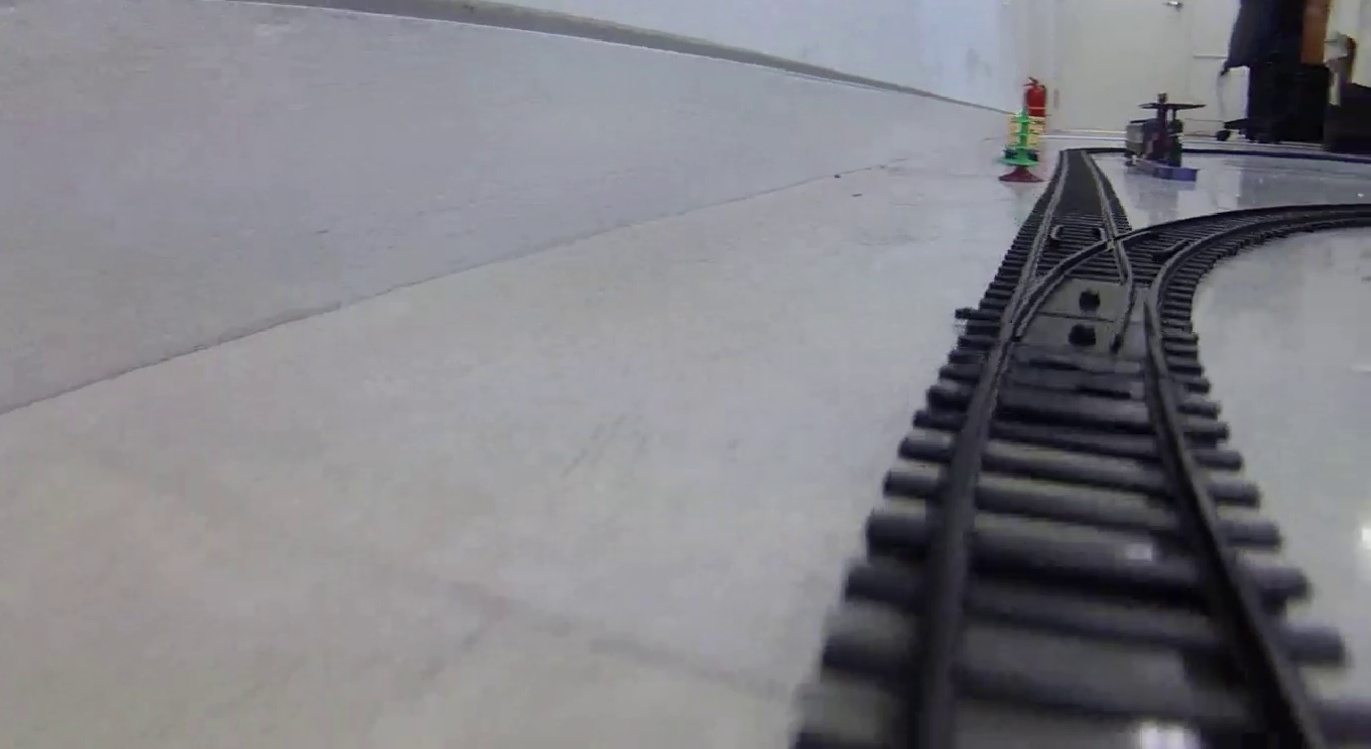tree: (999, 108, 1042, 186)
